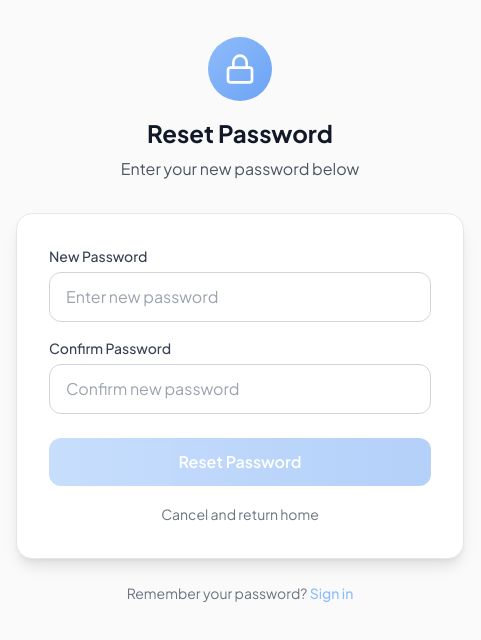
Test: ResetPasswordPage › password form › should show password mismatch message
The image size is (481, 640).
In the password field labelled "New Password": (240, 297) [49,272,431,322], type "password123"
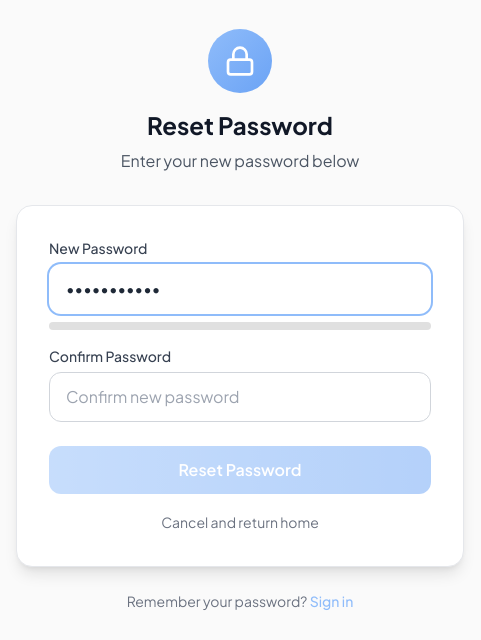
In the password field labelled "Confirm Password": (240, 397) [49,372,431,422], type "different"
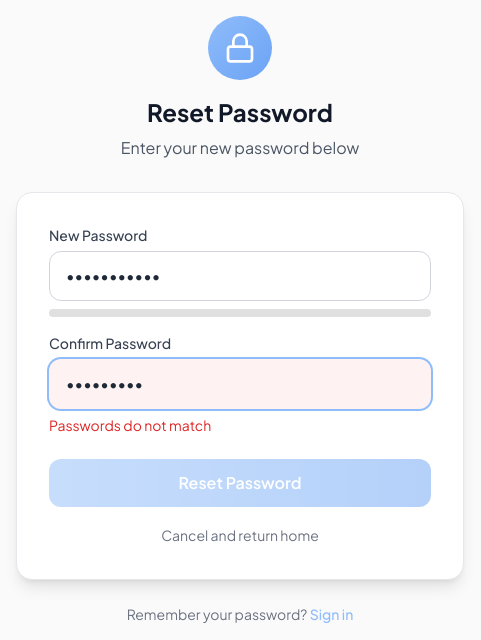
Now the text "Passwords do not match" is shown, box [49,416,211,434]
